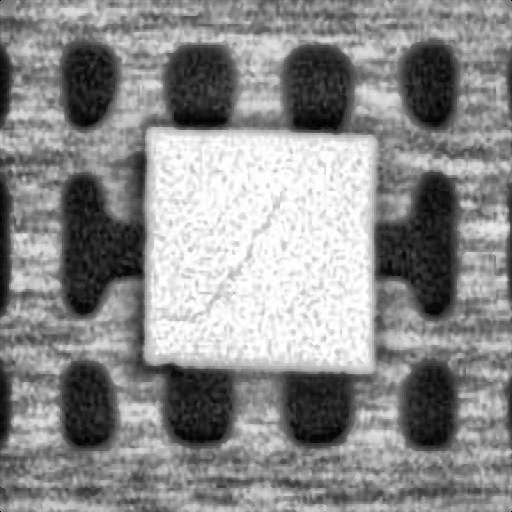DIE_CRACK: (196, 191, 282, 316)
